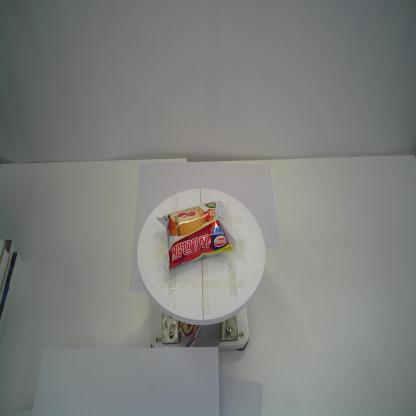Dessert: (154, 197, 237, 272)
